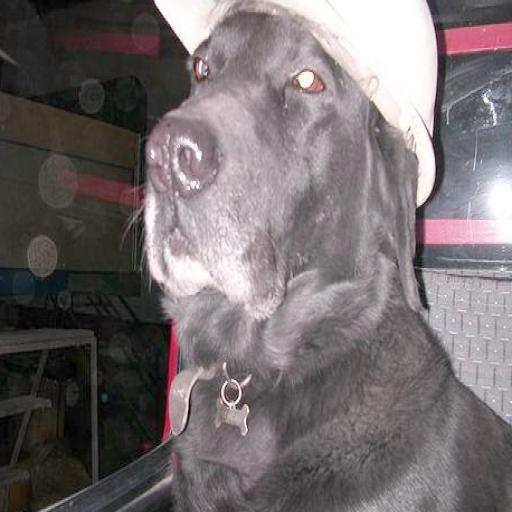dog_face: (146, 1, 430, 321)
